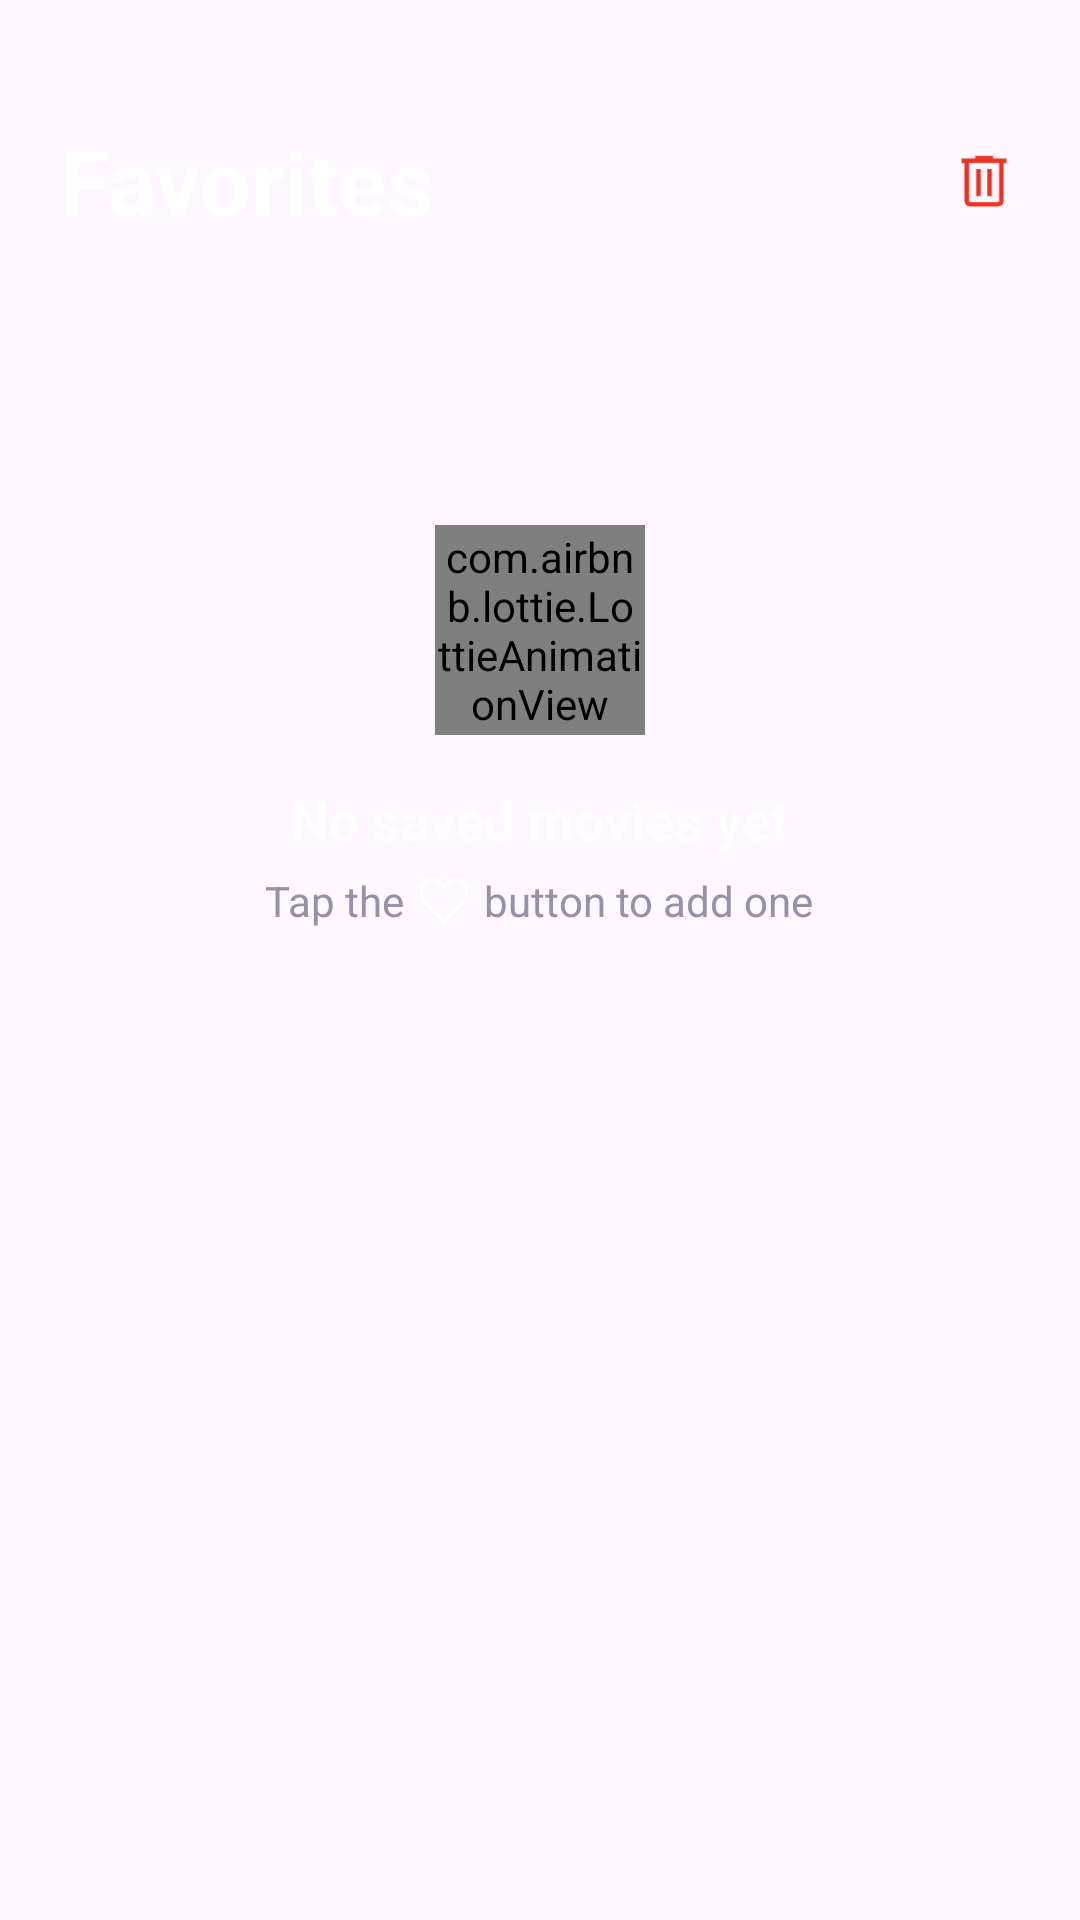

Icons on this 1080px x 1920px Android screen, each with its box as (x1, y1, x2, y2):
delete: (961, 155, 1007, 207)
